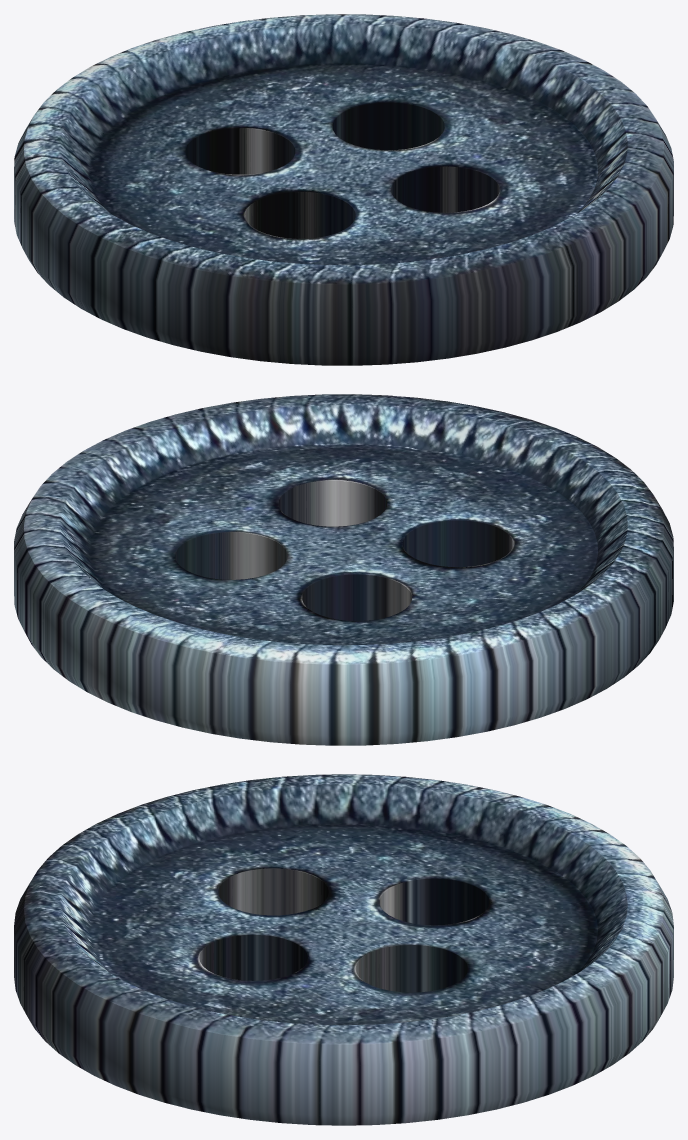
The model's file is silver_button.glb.
3 renders of one model, top to bottom at view 1: azimuth 30°, elevation 25°; view 2: azimuth 150°, elevation 25°; view 3: azimuth 270°, elevation 25°, orthographic.
Visible parts, largest first — view 1: button; view 2: button; view 3: button.
Part boxes in pixels (left/top/right/bottom): button: left=14, top=14, right=673, bottom=365; button: left=14, top=394, right=673, bottom=745; button: left=14, top=774, right=673, bottom=1125.
Bounding box in the file's own units: 2.2 × 0.308 × 2.2.
Materials: 1 (1 with a texture image).
